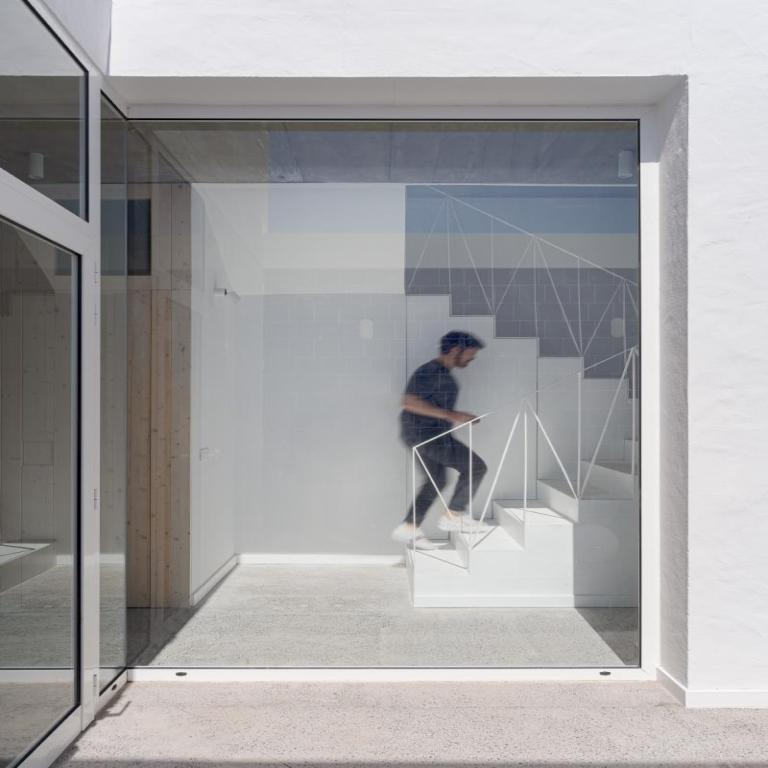white-walls: (137, 18, 736, 96)
